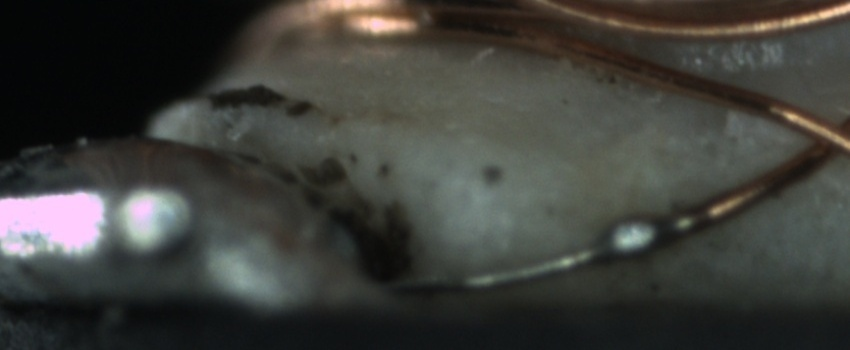CL: (774, 102, 850, 175)
TB: (599, 206, 677, 269)
TS: (389, 214, 702, 292)
TTCW: (385, 188, 743, 297)
